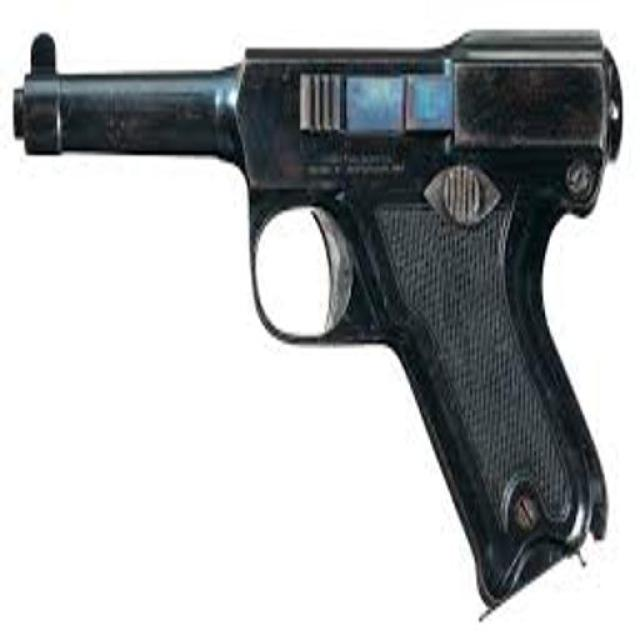pistol: (10, 21, 626, 587)
